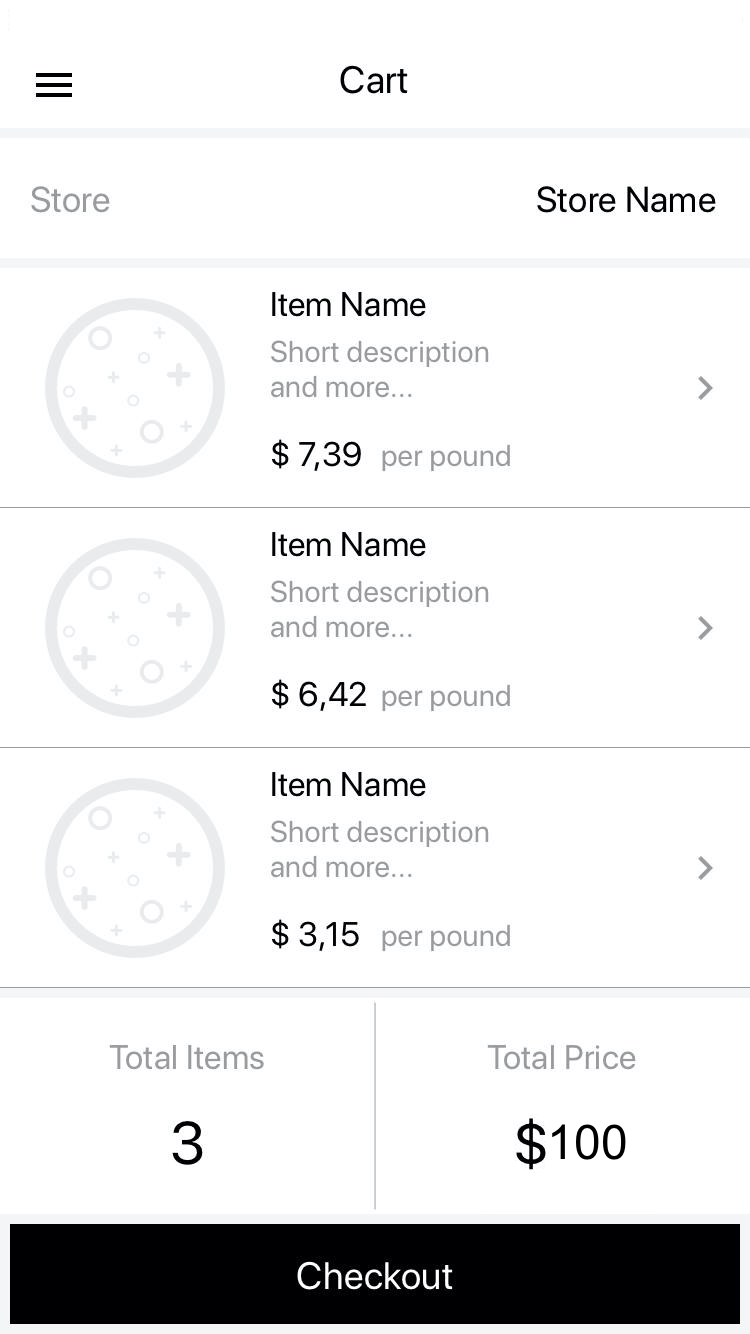Icon: (36, 73, 74, 99), (693, 851, 715, 884), (694, 610, 715, 642), (694, 372, 714, 403)
Image: (46, 297, 227, 479), (45, 538, 227, 719), (45, 778, 227, 959)
Text: (269, 580, 490, 639), (271, 340, 490, 399), (271, 820, 489, 879), (516, 1118, 627, 1171), (536, 185, 716, 216), (271, 290, 428, 318), (271, 531, 428, 559), (111, 1043, 266, 1071), (488, 1042, 636, 1071), (272, 771, 427, 798), (381, 444, 511, 473), (381, 924, 511, 952), (381, 685, 512, 712), (271, 680, 367, 712), (272, 920, 361, 953), (271, 440, 361, 472), (31, 186, 111, 215), (341, 66, 409, 95), (171, 1121, 204, 1165)
TextButton: (11, 1224, 741, 1325)
